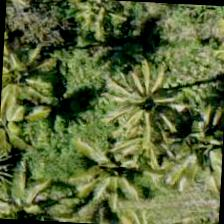Kelapa_Sawit: (92, 66, 188, 161), (0, 36, 77, 131), (43, 147, 139, 223), (162, 103, 224, 197)
